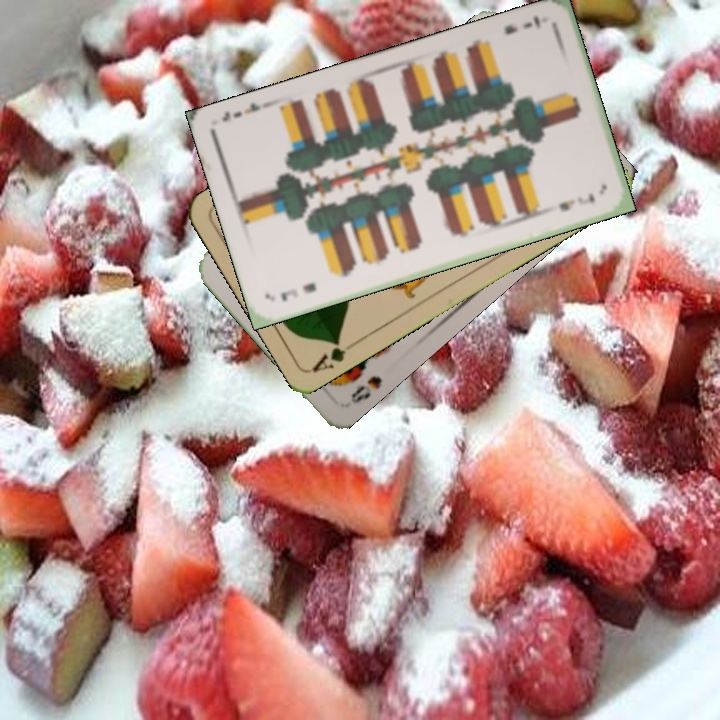E7: (500, 11, 543, 37), (277, 278, 319, 304)
GA: (309, 335, 362, 375)
S8: (346, 371, 385, 407)
